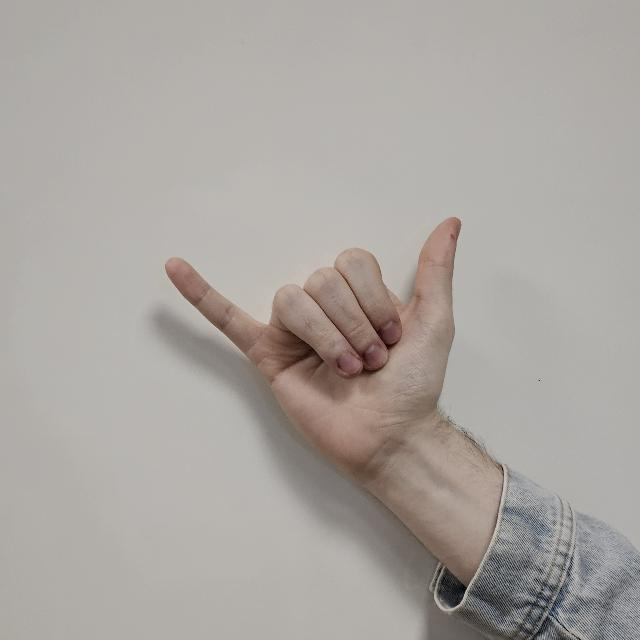Direita: (157, 209, 476, 496)
